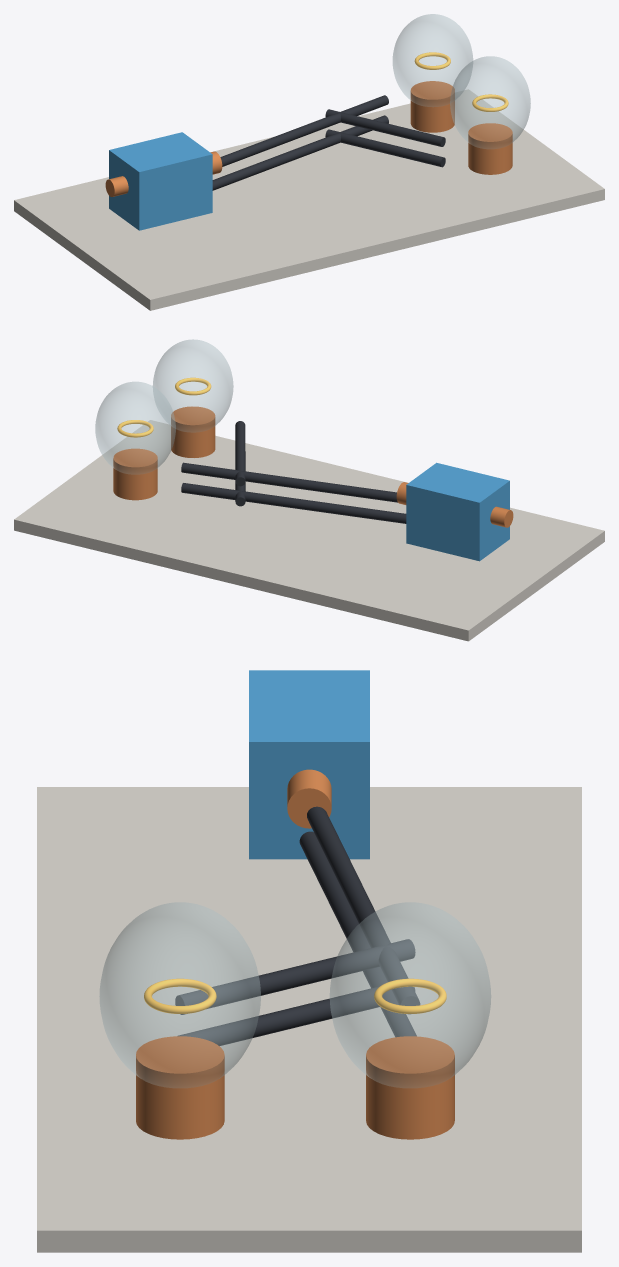
The model's file is physics-electricity-parallel-circuit.glb.
3 renders of one model, top to bottom at view 1: azimuth 30°, elevation 25°; view 2: azimuth 150°, elevation 25°; view 3: azimuth 270°, elevation 25°, orthographic. The views are drawn at different scales.
Visible parts, largest first — view 1: circuit-base, glass-bulb (×2), battery-case, bulb-base (×2), wire-top, wire-bottom, parallel-branch-return, parallel-branch-top; view 2: circuit-base, glass-bulb (×2), battery-case, bulb-base (×2), wire-bottom, wire-top, parallel-branch-top; view 3: circuit-base, glass-bulb (×2), battery-case, bulb-base (×2), parallel-branch-top, wire-top, parallel-branch-return, wire-bottom, glowing-filament (×2), positive-terminal.
Boxes of the visible parts, bbox=[...] form: circuit-base: bbox=[14, 89, 604, 310]; glass-bulb (×2): bbox=[392, 14, 530, 148]; battery-case: bbox=[109, 132, 212, 230]; bulb-base (×2): bbox=[410, 81, 512, 174]; wire-top: bbox=[220, 95, 388, 166]; wire-bottom: bbox=[212, 115, 388, 190]; parallel-branch-return: bbox=[325, 129, 445, 167]; parallel-branch-top: bbox=[325, 109, 445, 146]; circuit-base: bbox=[14, 420, 604, 641]; glass-bulb (×2): bbox=[95, 339, 233, 474]; battery-case: bbox=[406, 462, 509, 561]; bulb-base (×2): bbox=[113, 406, 215, 500]; wire-bottom: bbox=[181, 483, 406, 523]; wire-top: bbox=[181, 462, 397, 502]; parallel-branch-top: bbox=[235, 421, 245, 486]; circuit-base: bbox=[37, 787, 581, 1252]; glass-bulb (×2): bbox=[99, 902, 491, 1087]; battery-case: bbox=[249, 670, 369, 859]; bulb-base (×2): bbox=[136, 1036, 454, 1139]; parallel-branch-top: bbox=[175, 939, 415, 1014]; wire-top: bbox=[307, 806, 420, 1014]; parallel-branch-return: bbox=[178, 986, 415, 1045]; wire-bottom: bbox=[299, 831, 416, 1037]; glowing-filament (×2): bbox=[144, 978, 446, 1013]; positive-terminal: bbox=[287, 769, 331, 828].
Size of what is drawn, in the model's own units: 2.6 by 0.73 by 1.35.
